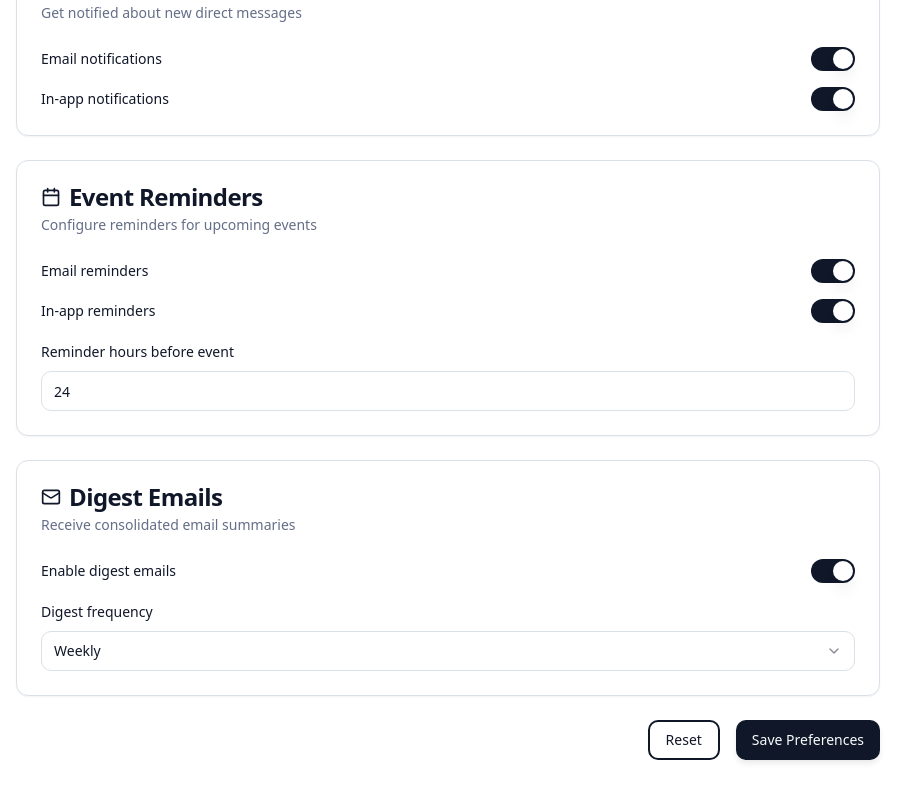
Test case: US-INVESTOR-016: Set Communication Preferences › Digest Emails › should allow changing digest frequency
The image size is (897, 792).
(page scrolled)
Expected: the text "Digest Emails" is shown, x1=69 y1=485 x2=222 y2=509
// Digest frequency should be the last select
Click the dropdown. click: [77, 650]
box: x1=41 y1=631 x2=855 y2=671
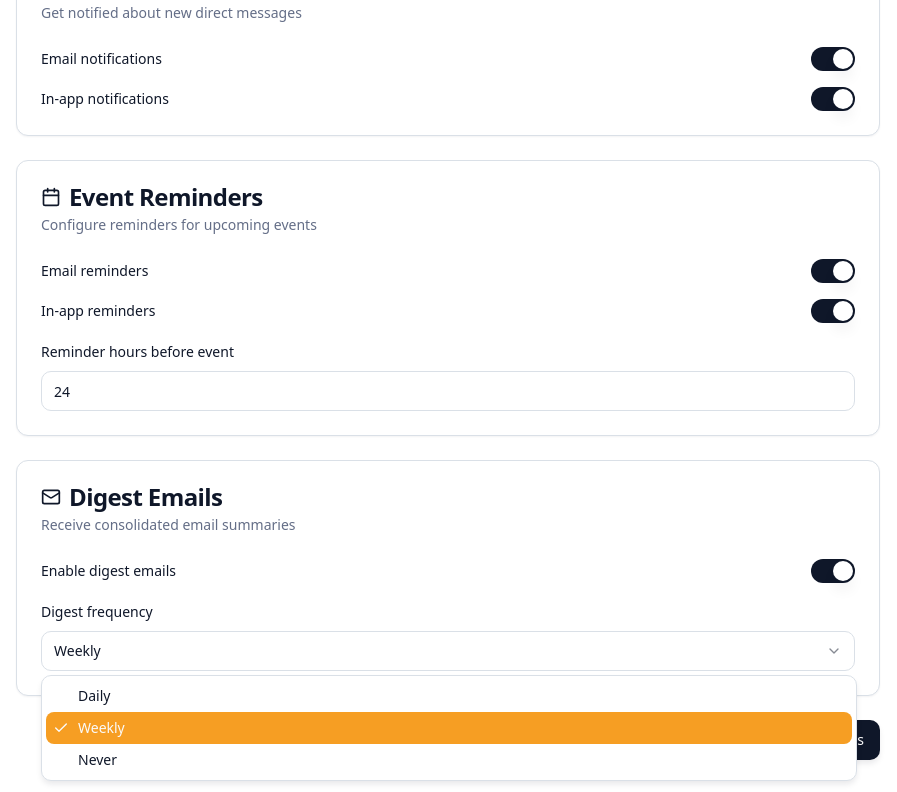
Expected: the option "Daily" is shown, x1=78 y1=686 x2=110 y2=705
